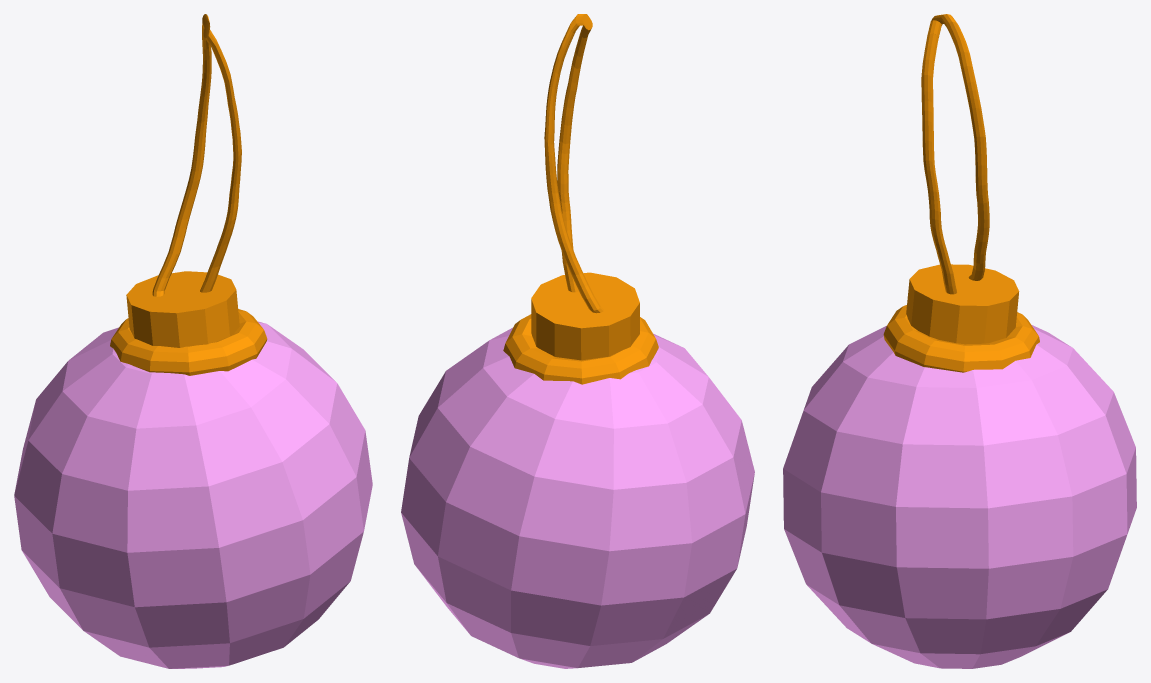
3 renders of one model, left to right at view 1: azimuth 30°, elevation 25°; view 2: azimuth 150°, elevation 25°; view 3: azimuth 270°, elevation 25°, orthographic.
Parts seen in each view (by area): view 1: node_MeshObject624428288-PolyGem25, node_MeshObject487294144-PolyPaper13; view 2: node_MeshObject624428288-PolyGem25, node_MeshObject487294144-PolyPaper13; view 3: node_MeshObject624428288-PolyGem25, node_MeshObject487294144-PolyPaper13.
Boxes of the visible parts, x1,y1,x2,y2 form: node_MeshObject624428288-PolyGem25: (14, 321, 372, 668); node_MeshObject487294144-PolyPaper13: (110, 14, 267, 375); node_MeshObject624428288-PolyGem25: (401, 327, 754, 668); node_MeshObject487294144-PolyPaper13: (503, 14, 658, 384); node_MeshObject624428288-PolyGem25: (783, 325, 1136, 668); node_MeshObject487294144-PolyPaper13: (883, 14, 1039, 372).
Size of the model in its own units: 0.227 by 0.4475 by 0.2242.
